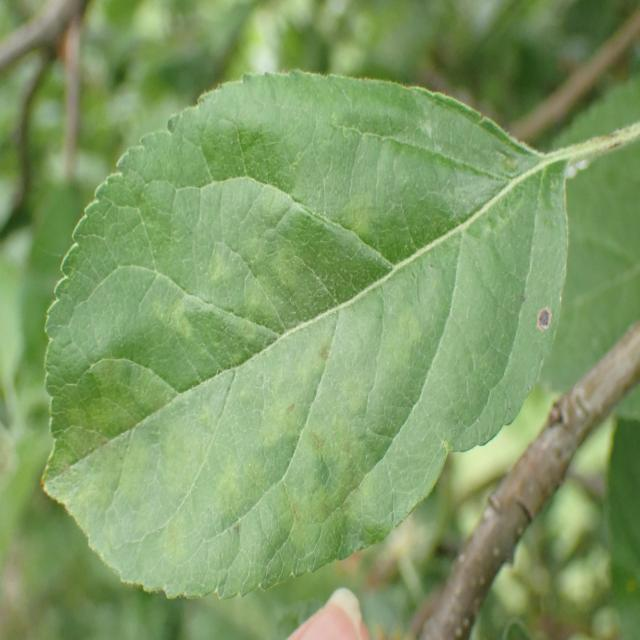scab: (51, 204, 564, 577)
